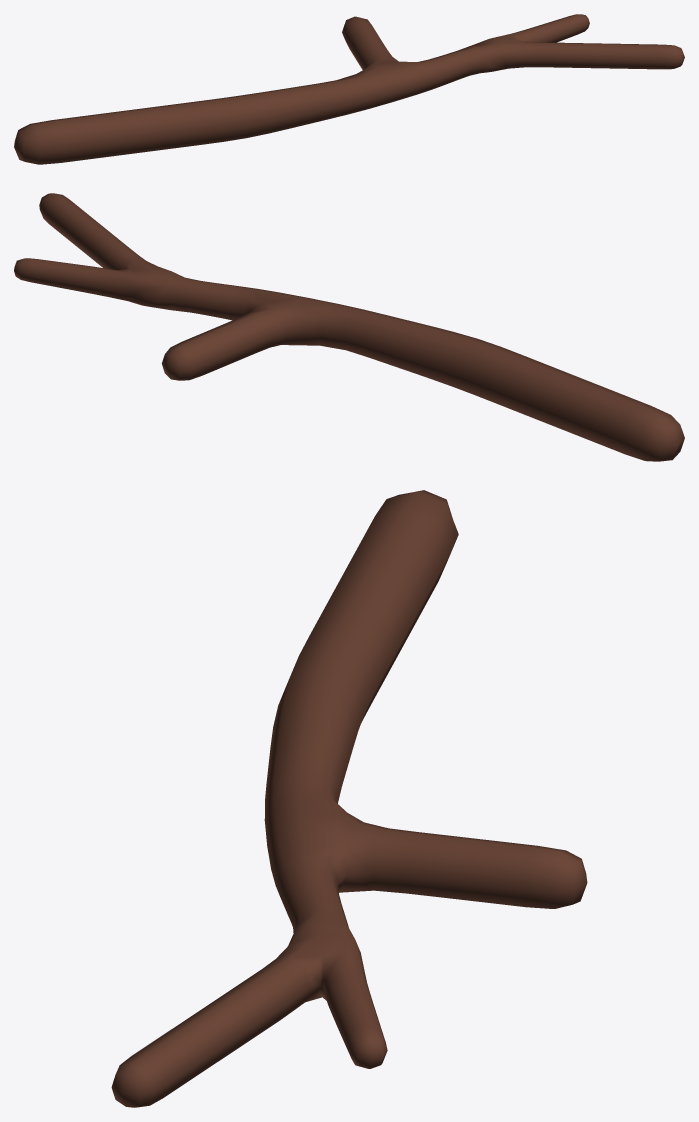
The model's file is Branch1.fbx.
3 views of the same model, one above another, from view 1: azimuth 30°, elevation 25°; view 2: azimuth 150°, elevation 25°; view 3: azimuth 270°, elevation 25° (orthographic). The views are drawn at different scales.
Parts seen in each view (by area): view 1: Plane.011; view 2: Plane.011; view 3: Plane.011.
Boxes of the visible parts, x1,y1,x2,y2 form: Plane.011: (14, 14, 684, 164); Plane.011: (14, 193, 684, 461); Plane.011: (111, 490, 587, 1107).
Bounding box in the file's own units: 704 × 45.83 × 243.
